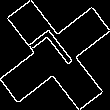L_SE: (27, 26, 83, 84)
